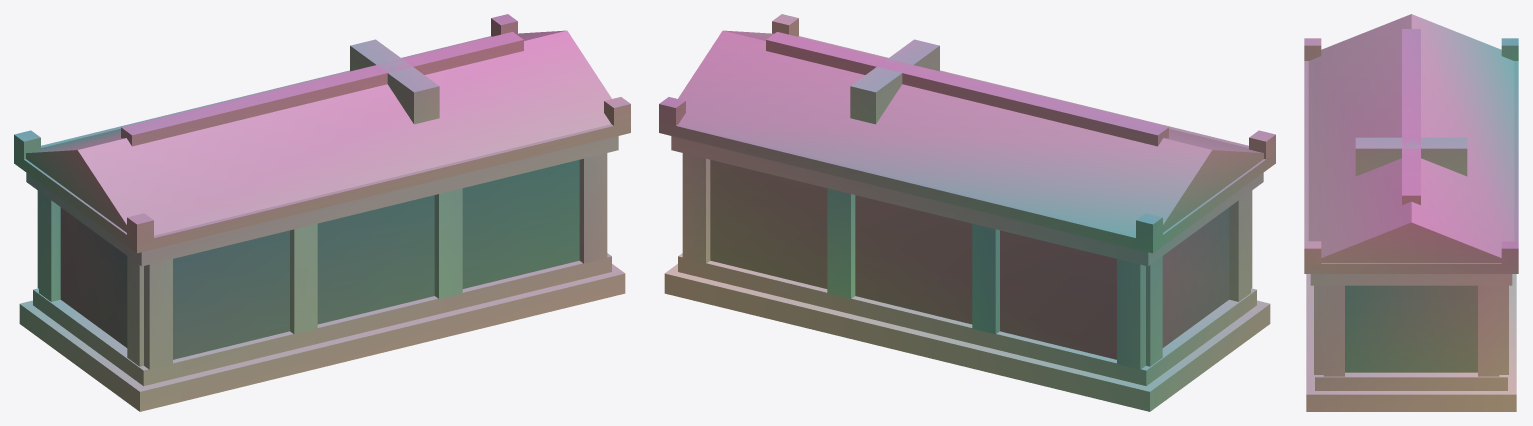
The model's file is sarcophagus.glb.
3 views of the same model, side by side, from view 1: azimuth 30°, elevation 25°; view 2: azimuth 150°, elevation 25°; view 3: azimuth 270°, elevation 25° (orthographic). The views are drawn at different scales.
Visible parts, largest first — view 1: sarc_lid, sarc_body, sarc_core; view 2: sarc_lid, sarc_body, sarc_core; view 3: sarc_lid, sarc_body, sarc_core.
Boxes of the visible parts, x1,y1,x2,y2 form: sarc_lid: (14,14,630,253); sarc_body: (19,136,625,411); sarc_core: (60,159,579,359); sarc_lid: (659,14,1275,253); sarc_body: (664,136,1270,411); sarc_core: (710,159,1229,359); sarc_lid: (1304,14,1518,273); sarc_body: (1306,274,1516,411); sarc_core: (1345,285,1477,372).
Bounding box in the file's own units: 2.32 × 1.01 × 1.
